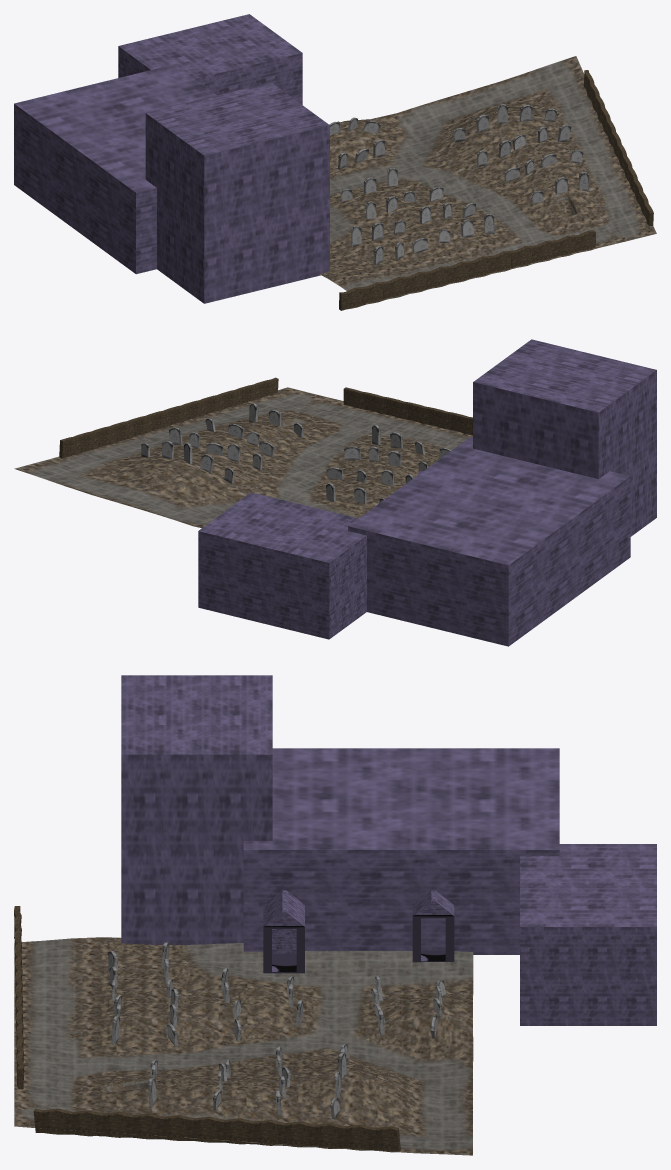
File: WhitbyCemetry.glb
3 views of the same model, one above another, from view 1: azimuth 30°, elevation 25°; view 2: azimuth 150°, elevation 25°; view 3: azimuth 270°, elevation 25° (orthographic). The views are drawn at different scales.
Visible parts, largest first — view 1: Church, Ground, StoneWall; view 2: Church, Ground; view 3: Church, Ground, StoneWall (×12), Entrance, Entrance.001.
Part boxes in pixels (left/top/right/bottom): Church: left=14, top=14, right=329, bottom=303; Ground: left=320, top=56, right=656, bottom=304; StoneWall: left=339, top=287, right=362, bottom=310; Church: left=198, top=339, right=656, bottom=646; Ground: left=14, top=387, right=472, bottom=528; Church: left=121, top=675, right=656, bottom=1025; Ground: left=14, top=937, right=473, bottom=1155; StoneWall (×12): left=33, top=1108, right=400, bottom=1152; Entrance: left=263, top=890, right=304, bottom=973; Entrance.001: left=412, top=890, right=454, bottom=962.
Bounding box in the file's own units: 49.7 × 13.6 × 40.47.
Materials: 4 (4 with a texture image).
